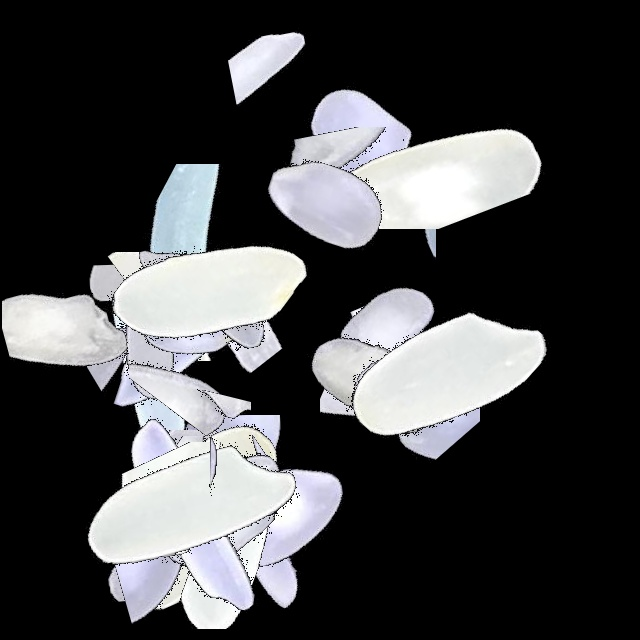Broken: (2, 195, 176, 445), (132, 165, 303, 415), (86, 390, 250, 640), (295, 65, 545, 229), (98, 164, 348, 321), (326, 247, 476, 497), (64, 480, 314, 629), (150, 390, 296, 640), (147, 483, 397, 629), (320, 286, 460, 536), (95, 436, 345, 576), (341, 264, 480, 514), (60, 430, 310, 567), (173, 2, 423, 137), (77, 442, 327, 570), (129, 222, 250, 472), (122, 415, 372, 532), (319, 87, 436, 337), (234, 127, 484, 243), (87, 226, 199, 476), (86, 252, 336, 361), (84, 191, 188, 441), (260, 74, 510, 171), (189, 370, 283, 620), (62, 309, 312, 403), (340, 18, 431, 268), (209, 356, 299, 606), (168, 309, 251, 559), (323, 36, 405, 286), (172, 185, 247, 435)
Full: (115, 390, 365, 640), (319, 248, 569, 498), (240, 17, 490, 267), (22, 253, 272, 503), (94, 370, 344, 620), (258, 213, 508, 463), (59, 227, 309, 477), (28, 203, 278, 453), (70, 191, 320, 441), (250, 261, 500, 511), (78, 171, 328, 421), (286, 265, 536, 515), (80, 390, 330, 640), (200, 79, 450, 329), (159, 390, 409, 640), (101, 390, 351, 640), (67, 390, 317, 640), (84, 162, 334, 412), (320, 249, 570, 499), (63, 377, 313, 627)
